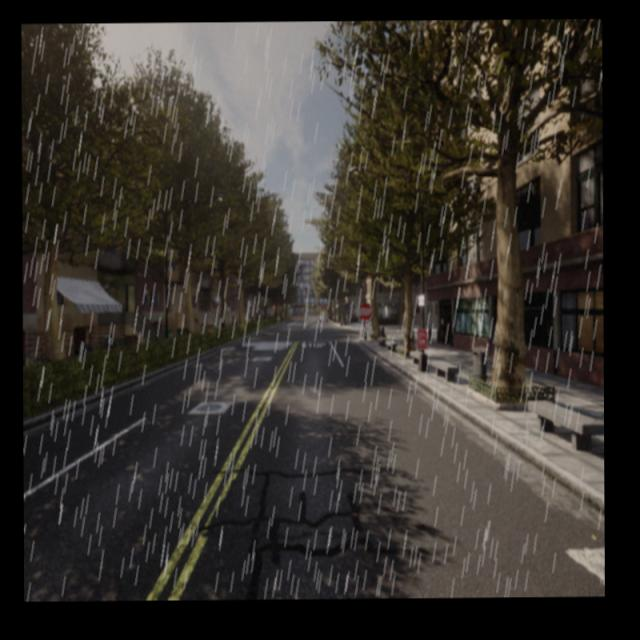stop sign: (356, 299, 374, 321)
